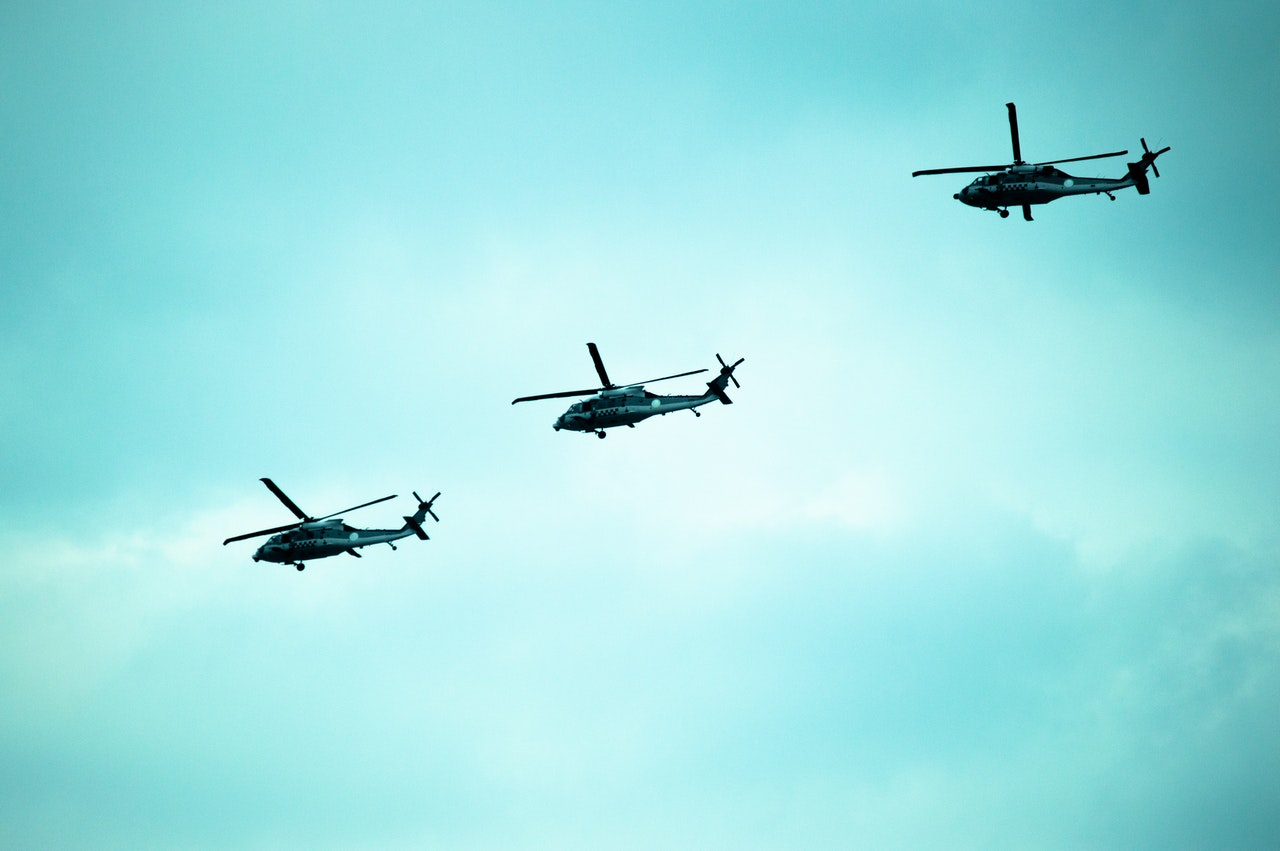heli: (911, 102, 1170, 223), (511, 340, 747, 438), (223, 477, 439, 571)
